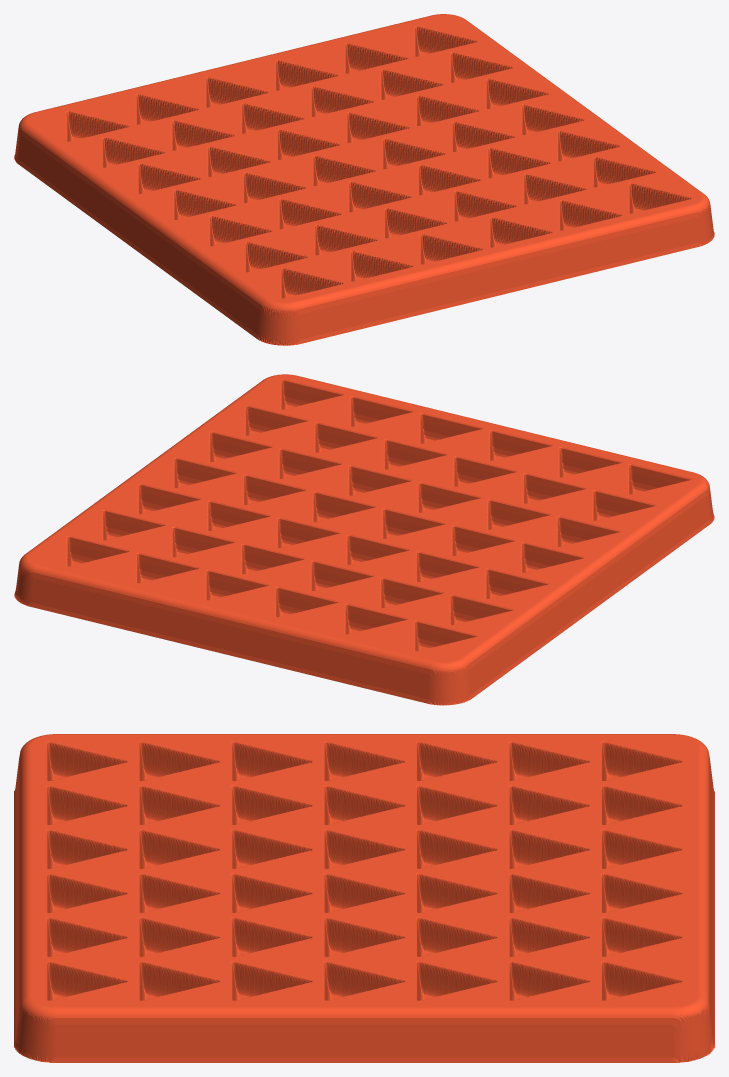
Rendered from mold.glb.
3 renders of one model, top to bottom at view 1: azimuth 30°, elevation 25°; view 2: azimuth 150°, elevation 25°; view 3: azimuth 270°, elevation 25°, orthographic. The views are drawn at different scales.
Visible parts, largest first — view 1: geometry_0; view 2: geometry_0; view 3: geometry_0.
Boxes of the visible parts, <box> form: geometry_0: <box>14,14,714,345</box>; geometry_0: <box>14,374,714,705</box>; geometry_0: <box>14,734,714,1062</box>.
Bounding box in the file's own units: 0.1437 × 0.0114 × 0.1486.
